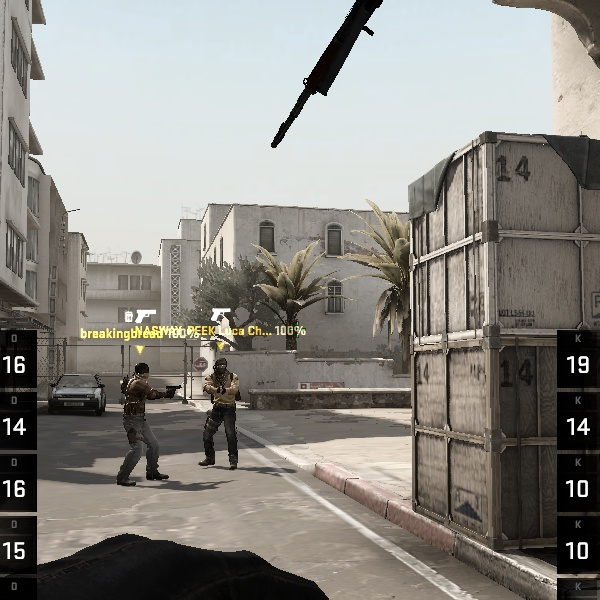t_body: (119, 362, 169, 483), (199, 358, 240, 468)
t_head: (134, 363, 150, 382), (213, 358, 227, 376)
